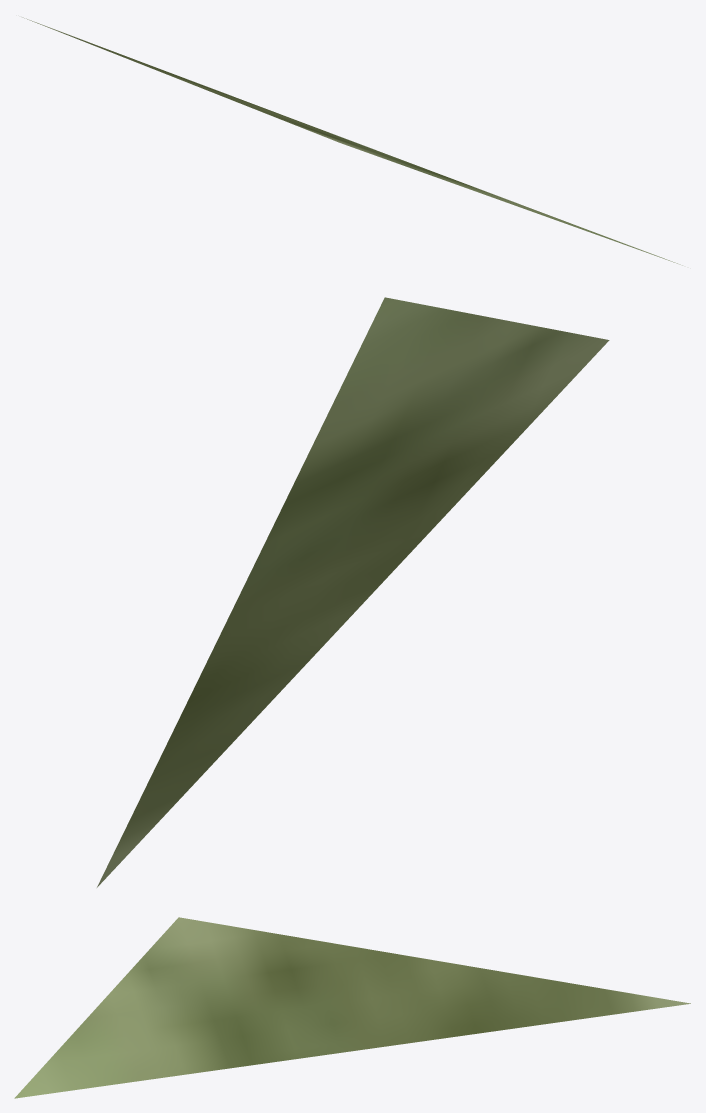
3 renders of one model, top to bottom at view 1: azimuth 30°, elevation 25°; view 2: azimuth 150°, elevation 25°; view 3: azimuth 270°, elevation 25°, orthographic. The views are drawn at different scales.
Size of the model in its own units: 0.107 by 0.0454 by 0.3226.
Materials: 1 (1 with a texture image).
